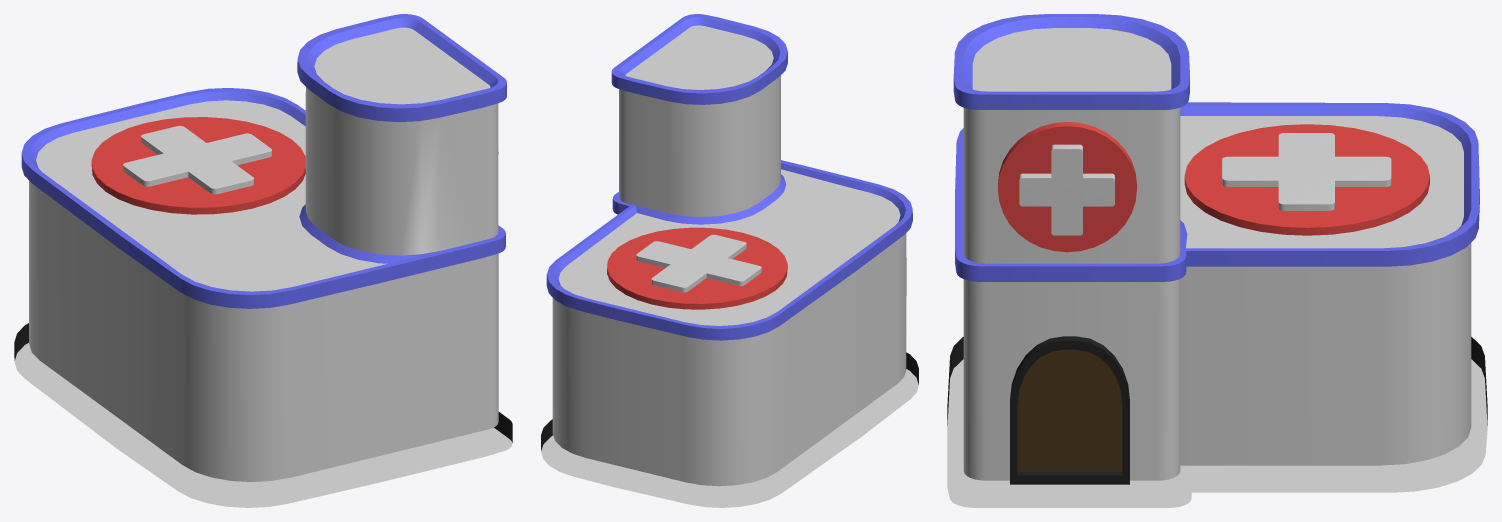
Rendered from hospital.glb.
3 renders of one model, left to right at view 1: azimuth 30°, elevation 25°; view 2: azimuth 150°, elevation 25°; view 3: azimuth 270°, elevation 25°, orthographic. The views are drawn at different scales.
Parts seen in each view (by area): view 1: Hospital; view 2: Hospital; view 3: Hospital.
Boxes of the visible parts, box(x1,y1,x2,y2) form: Hospital: box(14, 14, 512, 507); Hospital: box(541, 14, 918, 507); Hospital: box(947, 14, 1487, 507).
Size of the model in its own units: 5.15 by 5.71 by 6.79.
